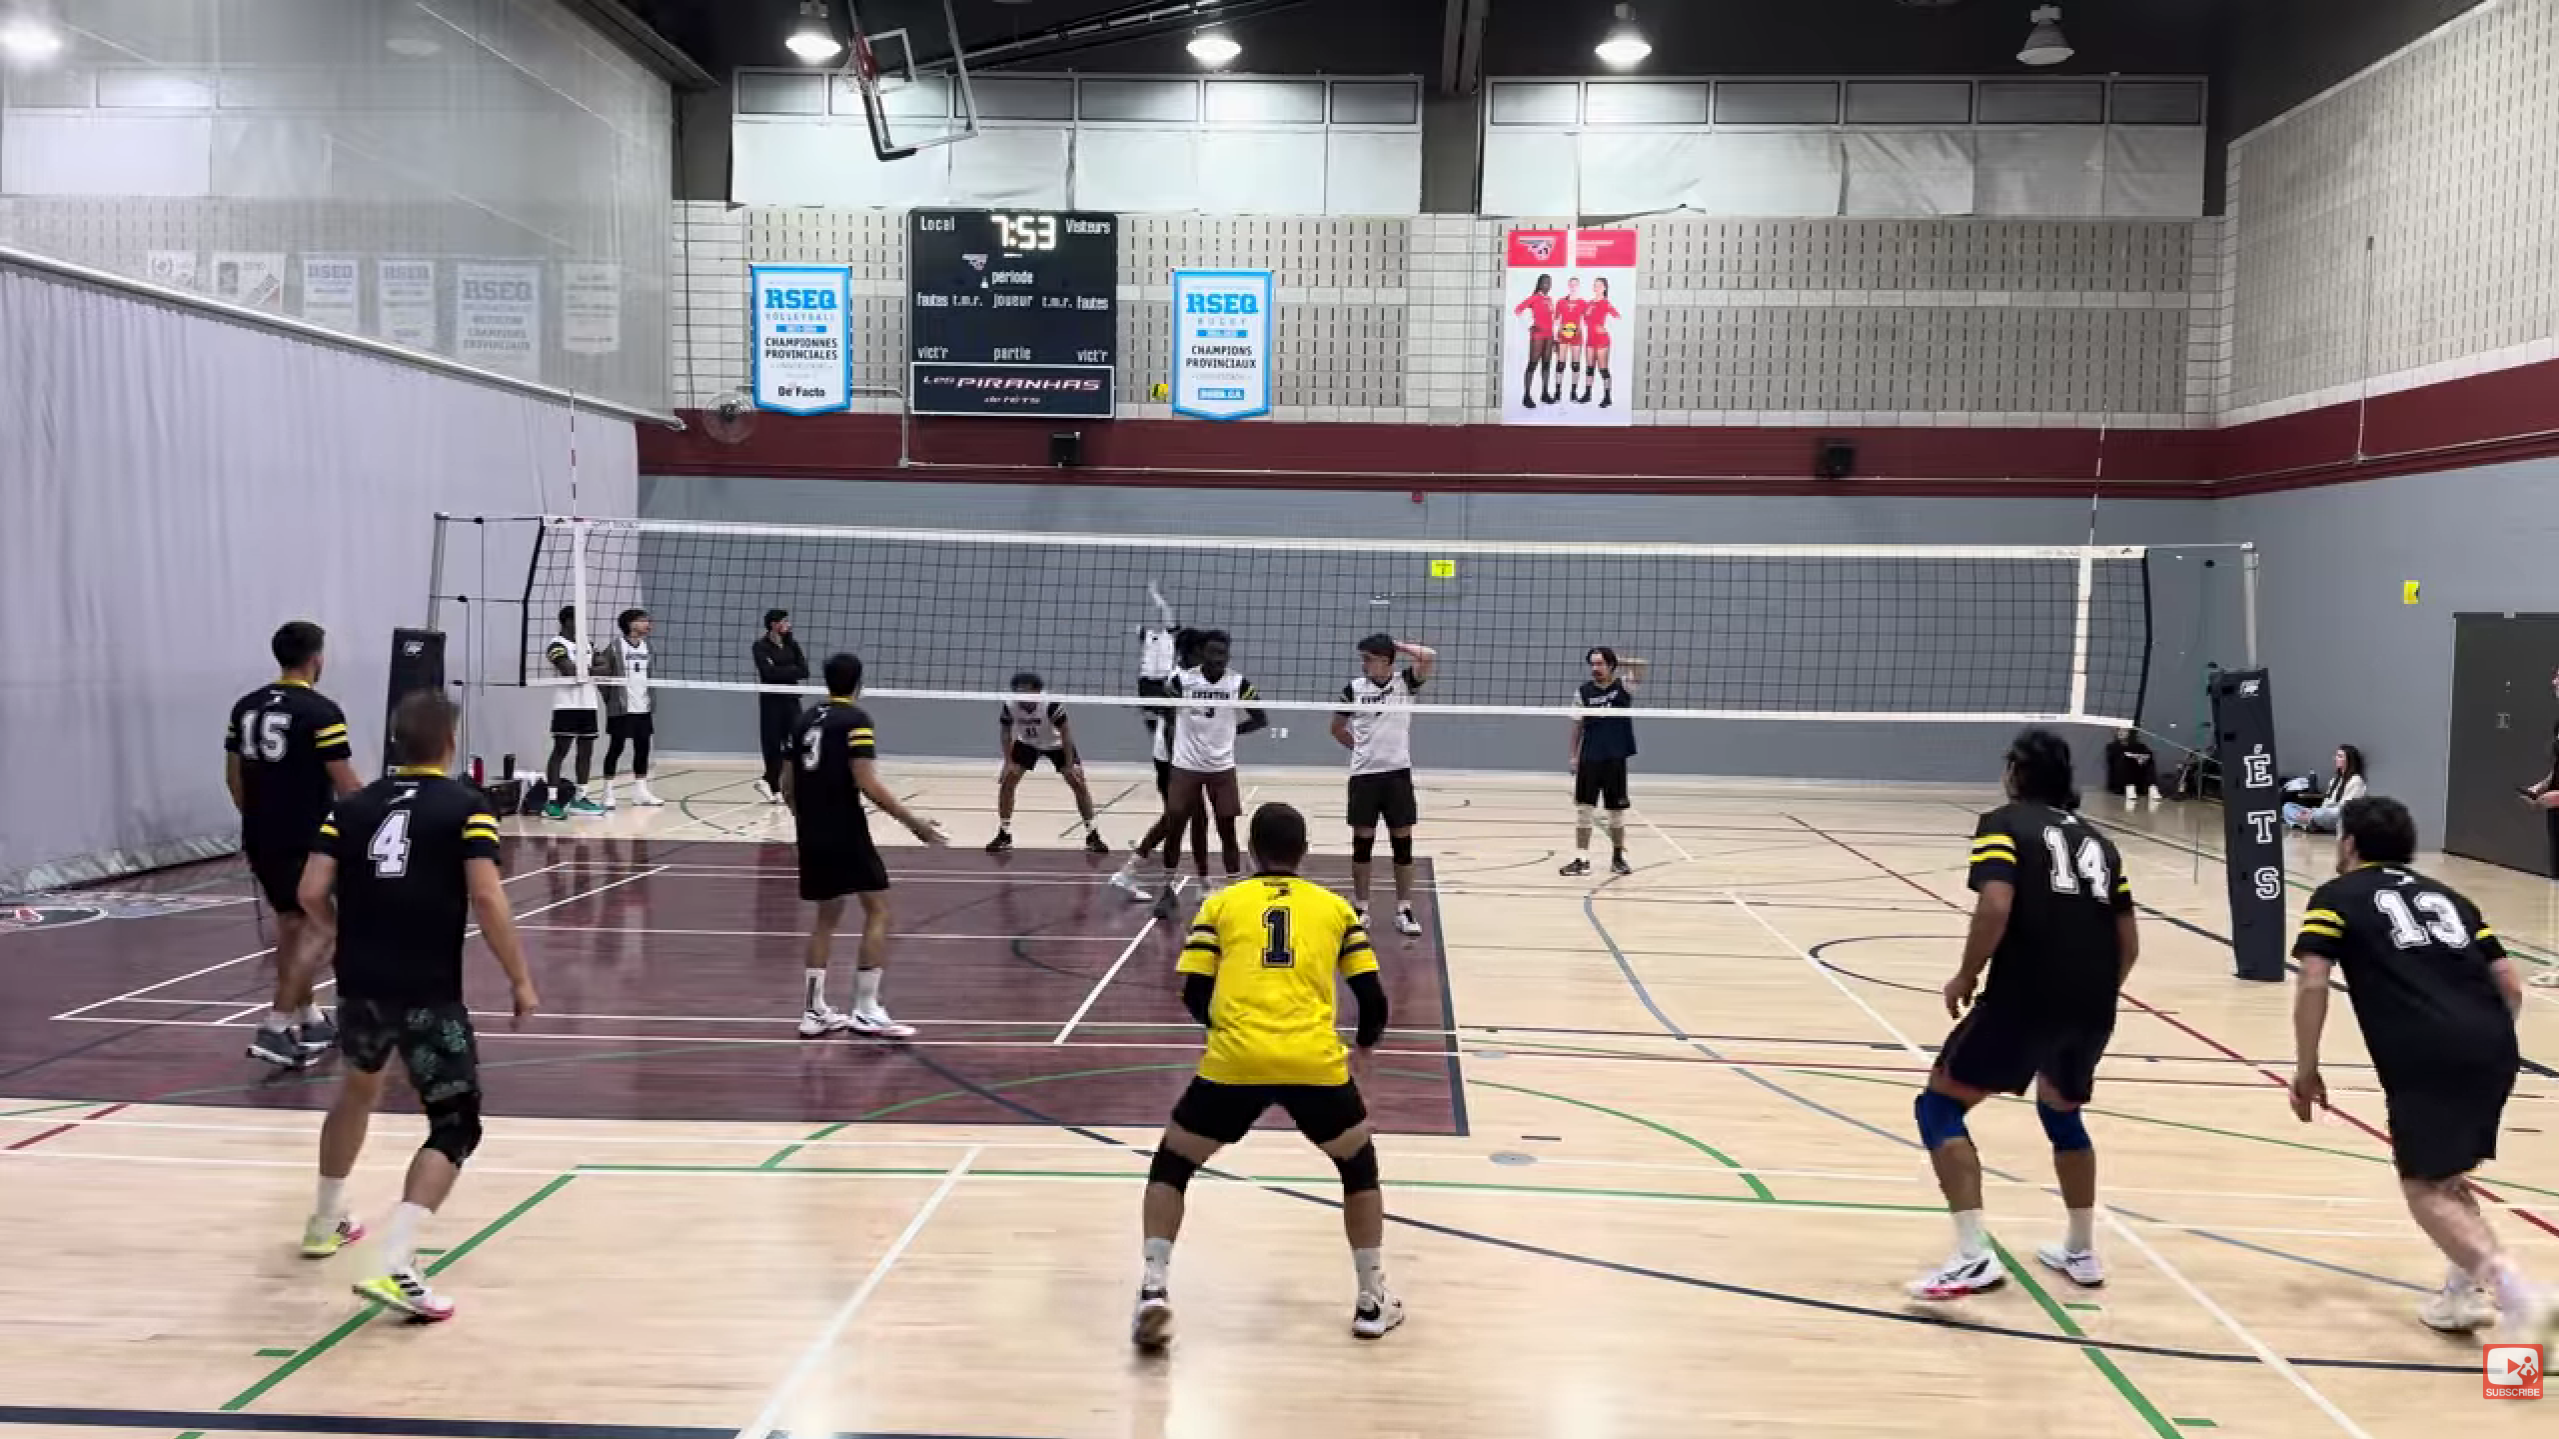Ball: (1148, 381, 1171, 402)
